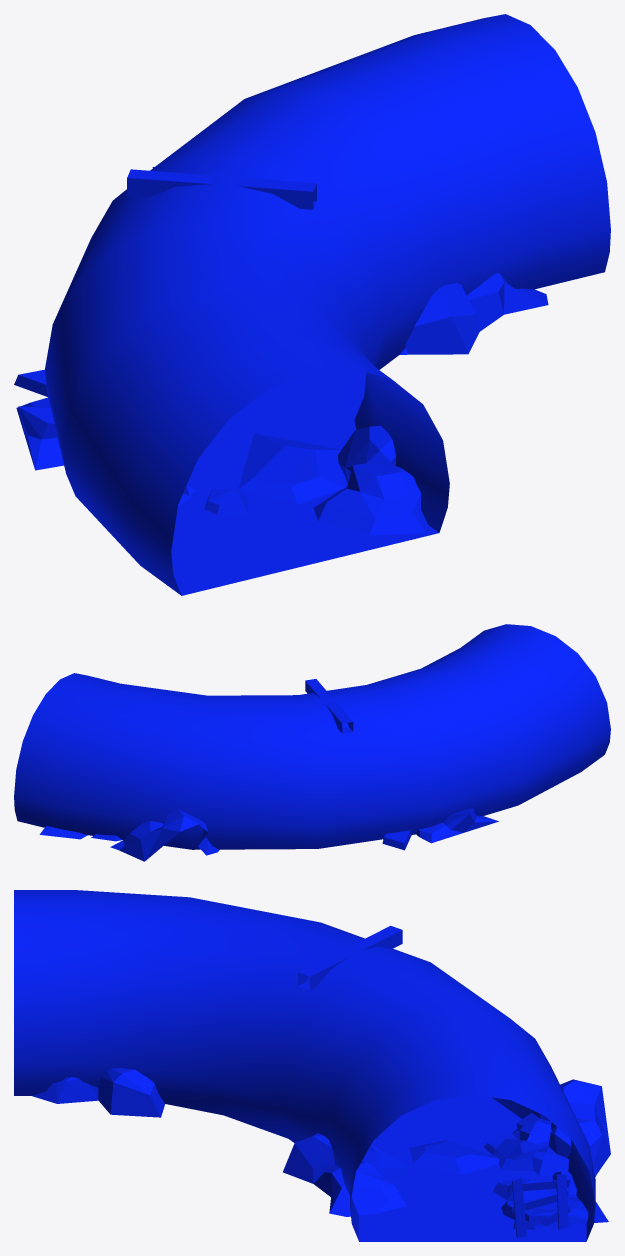
File: 90DegOne_Collider.DAE
The picture shows the model from 3 angles, top to bottom: view 1: azimuth 30°, elevation 25°; view 2: azimuth 150°, elevation 25°; view 3: azimuth 270°, elevation 25°; orthographic projection. The views are drawn at different scales.
Visible parts, largest first — view 1: Collider; view 2: Collider; view 3: Collider.
Part boxes in pixels (<box>): Collider: <box>14,14,610,595</box>; Collider: <box>14,624,610,861</box>; Collider: <box>14,890,610,1241</box>.
Bounding box in the file's own units: 1268 × 1301 × 358.
